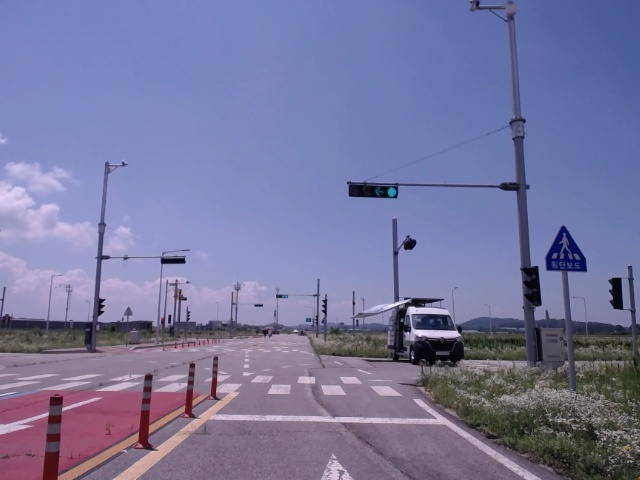all_green_4: (351, 180, 398, 199)
